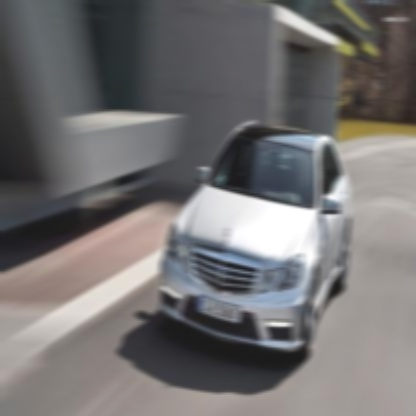Vehicle: (158, 109, 354, 371)
